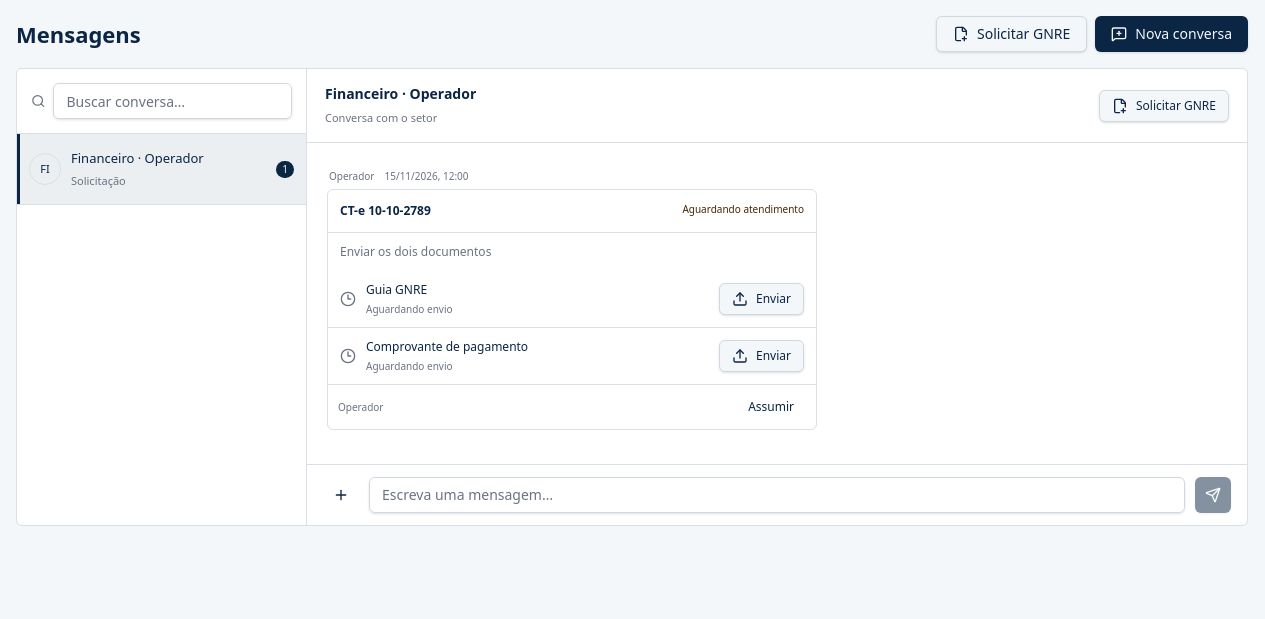
Test: mostra a mensagem como enviando enquanto a confirmação está pendente
This screenshot has width=1265, height=619.
Later steps or results of the test are not shown.
Expected: the element named "Documentos do CT-e 10-10-2789" is shown, [327, 189, 817, 430]
In the text box named "Mensagem da conversa": (777, 495) [369, 477, 1185, 513], type "Já estou providenciando"
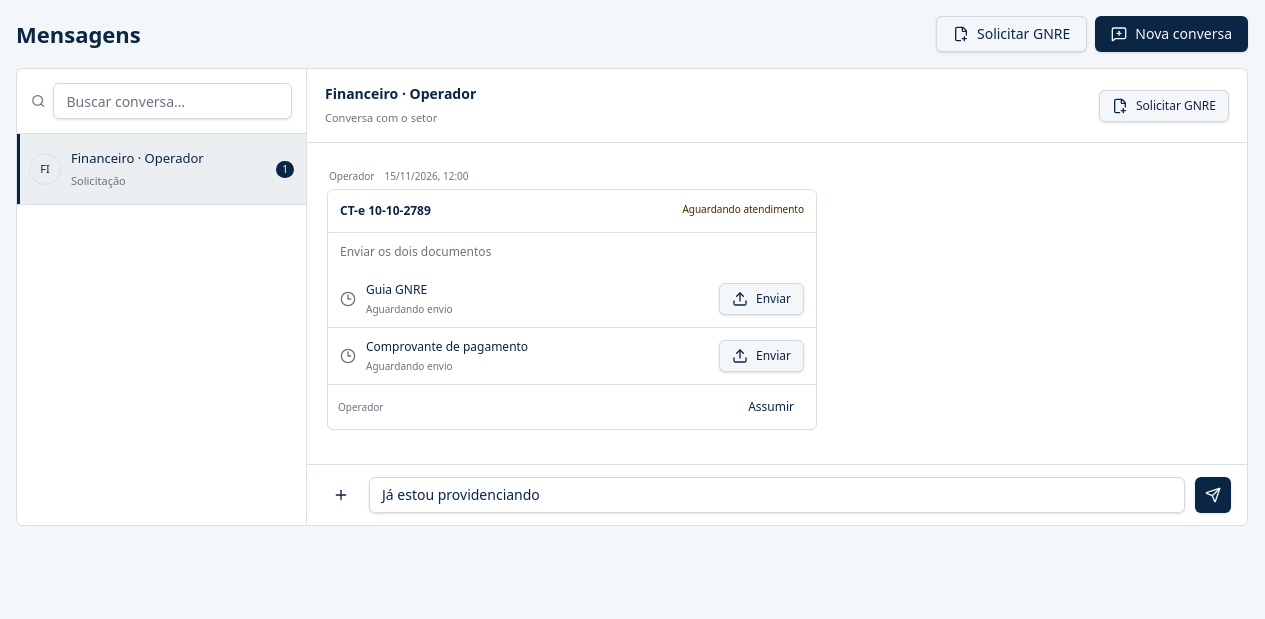
Click the button named "Enviar mensagem": (1213, 495) [1195, 477, 1231, 513]
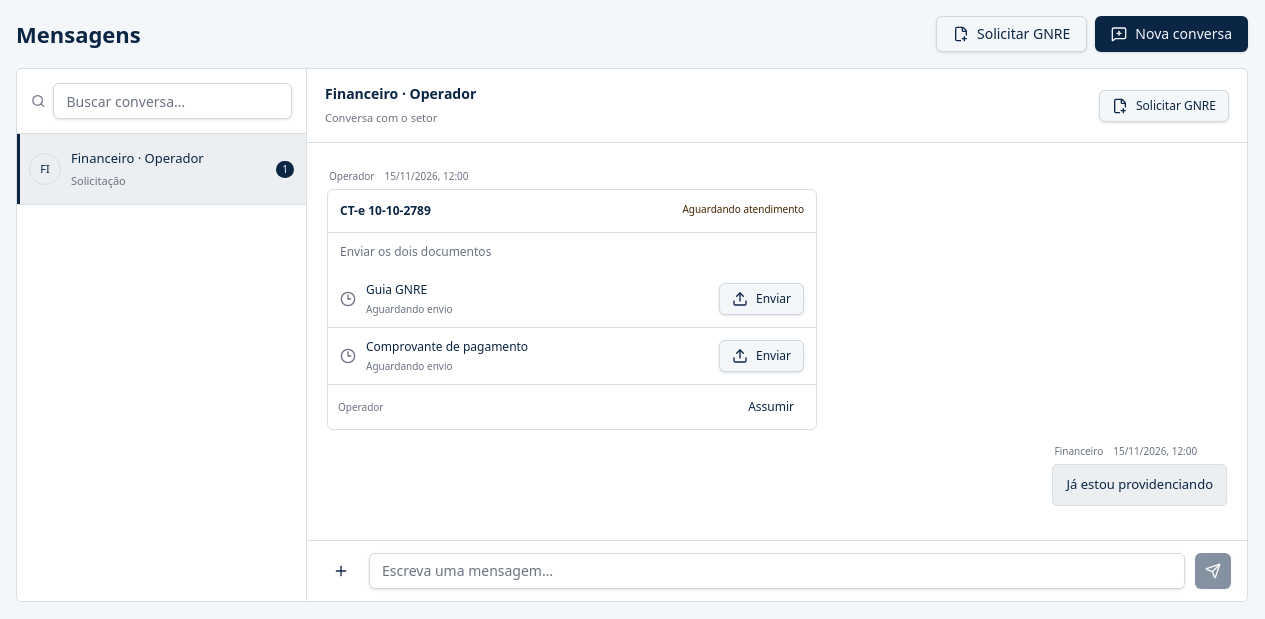
Now the text "Já estou providenciando" is shown once, box [1052, 464, 1227, 506]
